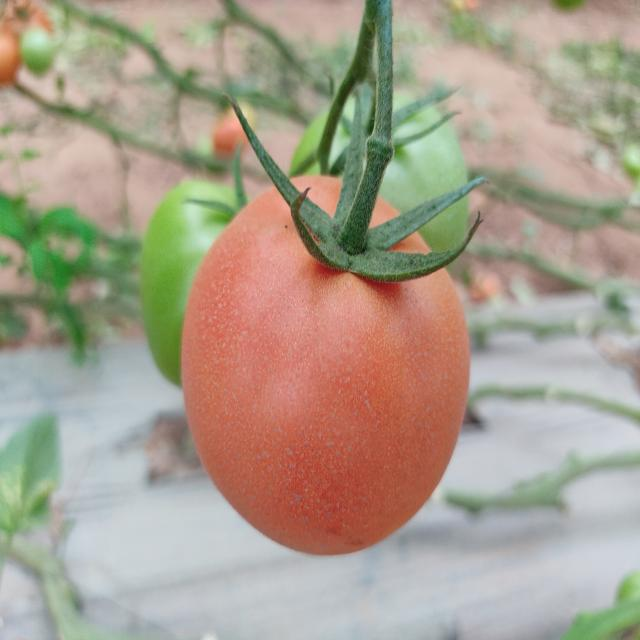Ripe Tomato: (182, 174, 474, 550)
